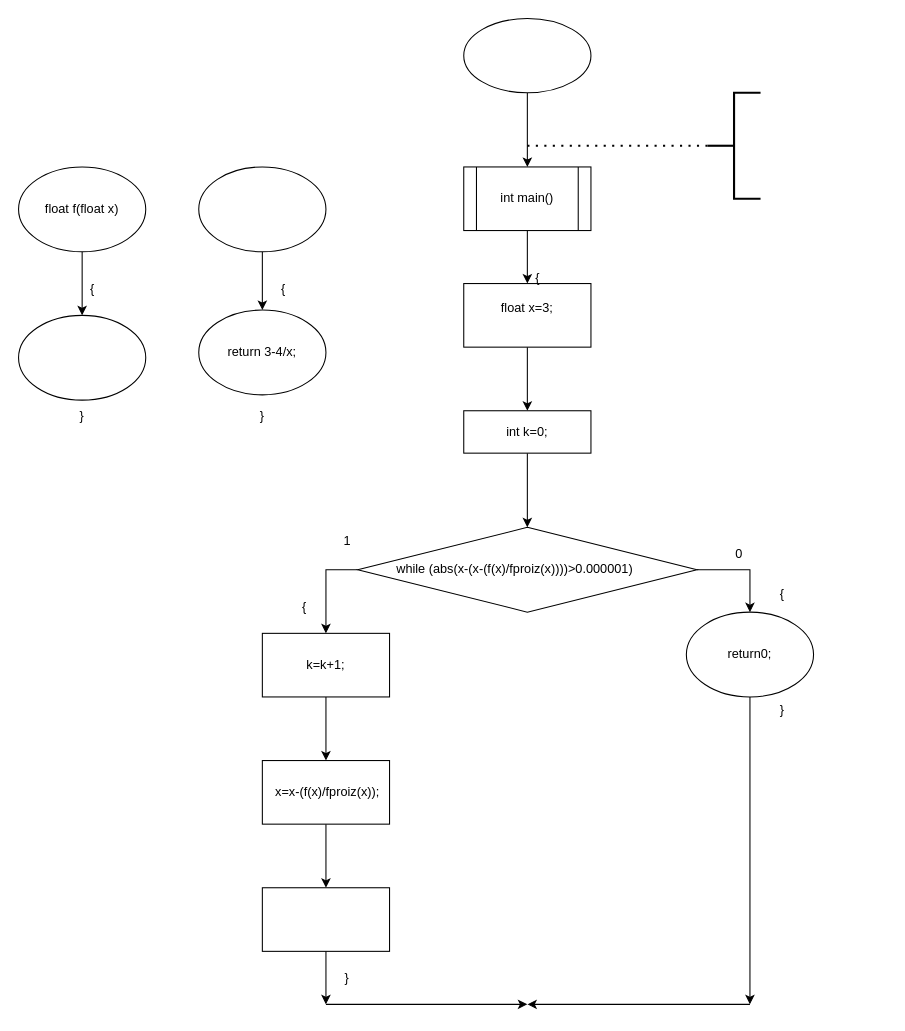
Some shapes in this 905 by 1031 pixel diagram are drawn without their labels. Here are the shapes that lost their labels. From the top down, the box of each, then its label:
(463, 17, 591, 93): Начало
(706, 91, 761, 199): #include <iostream> #include <math.h> using namespace std;
(198, 166, 326, 252): float froiz(float x)
(17, 314, 146, 400): return 3*x-4*log(x)-5;
(261, 887, 390, 951): cout<<'x'<<k<<" = " <<x<<endl;
